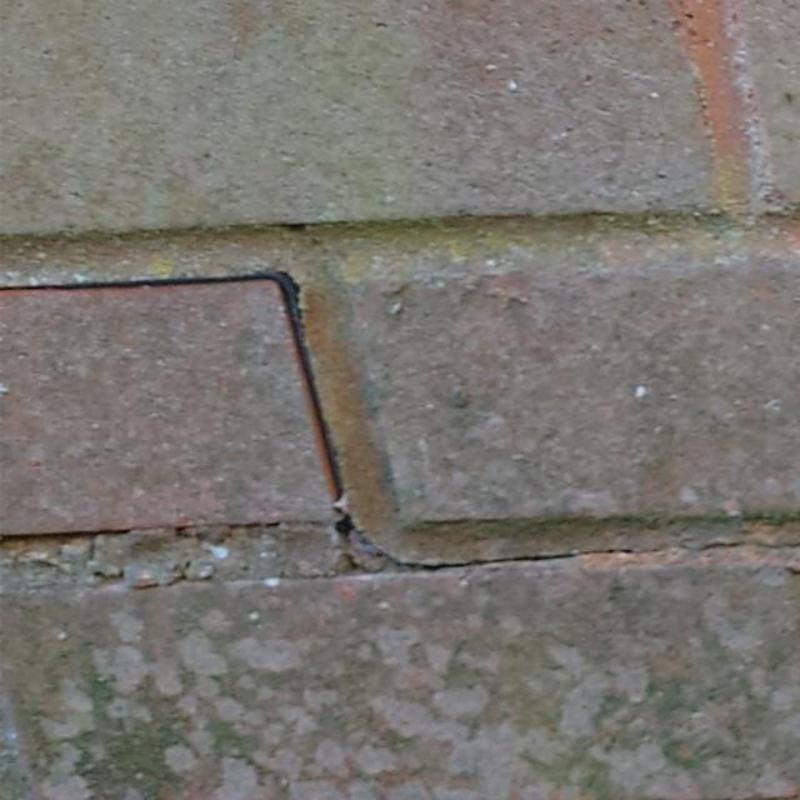pothole: (4, 270, 345, 501), (358, 530, 799, 571), (0, 525, 130, 544), (334, 514, 353, 535)
